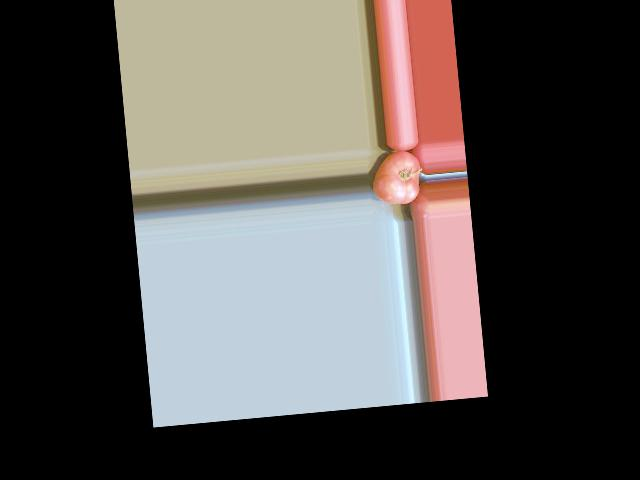tomato: (369, 149, 422, 206)
